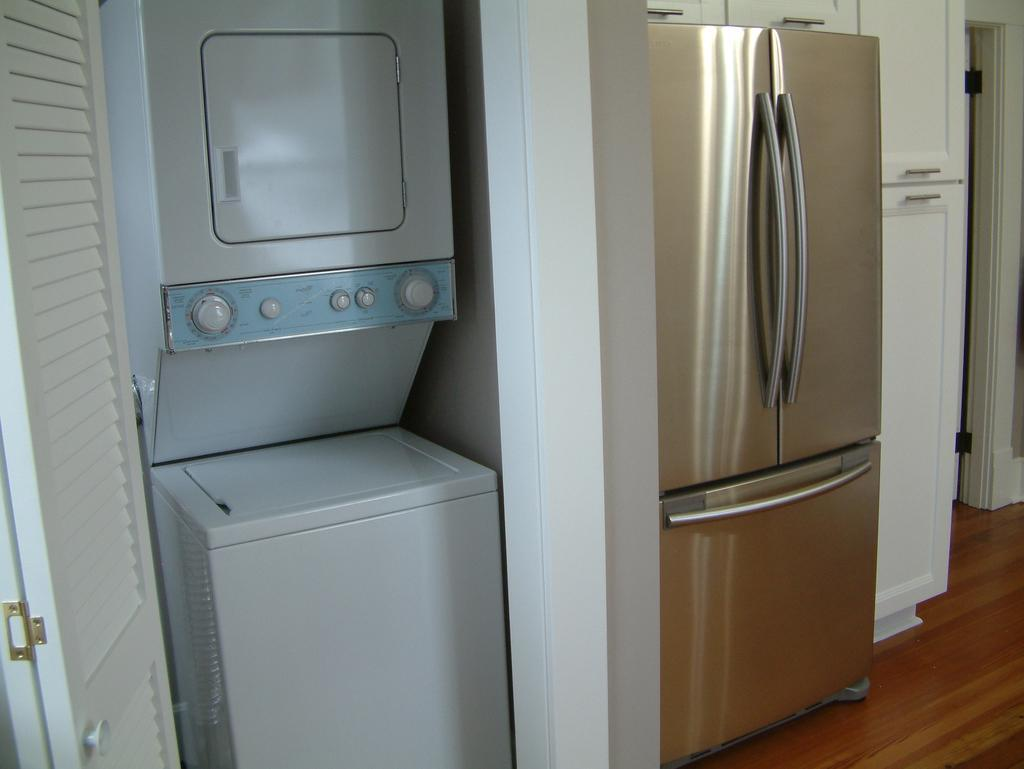door: (0, 47, 92, 769)
handle: (80, 708, 110, 755)
